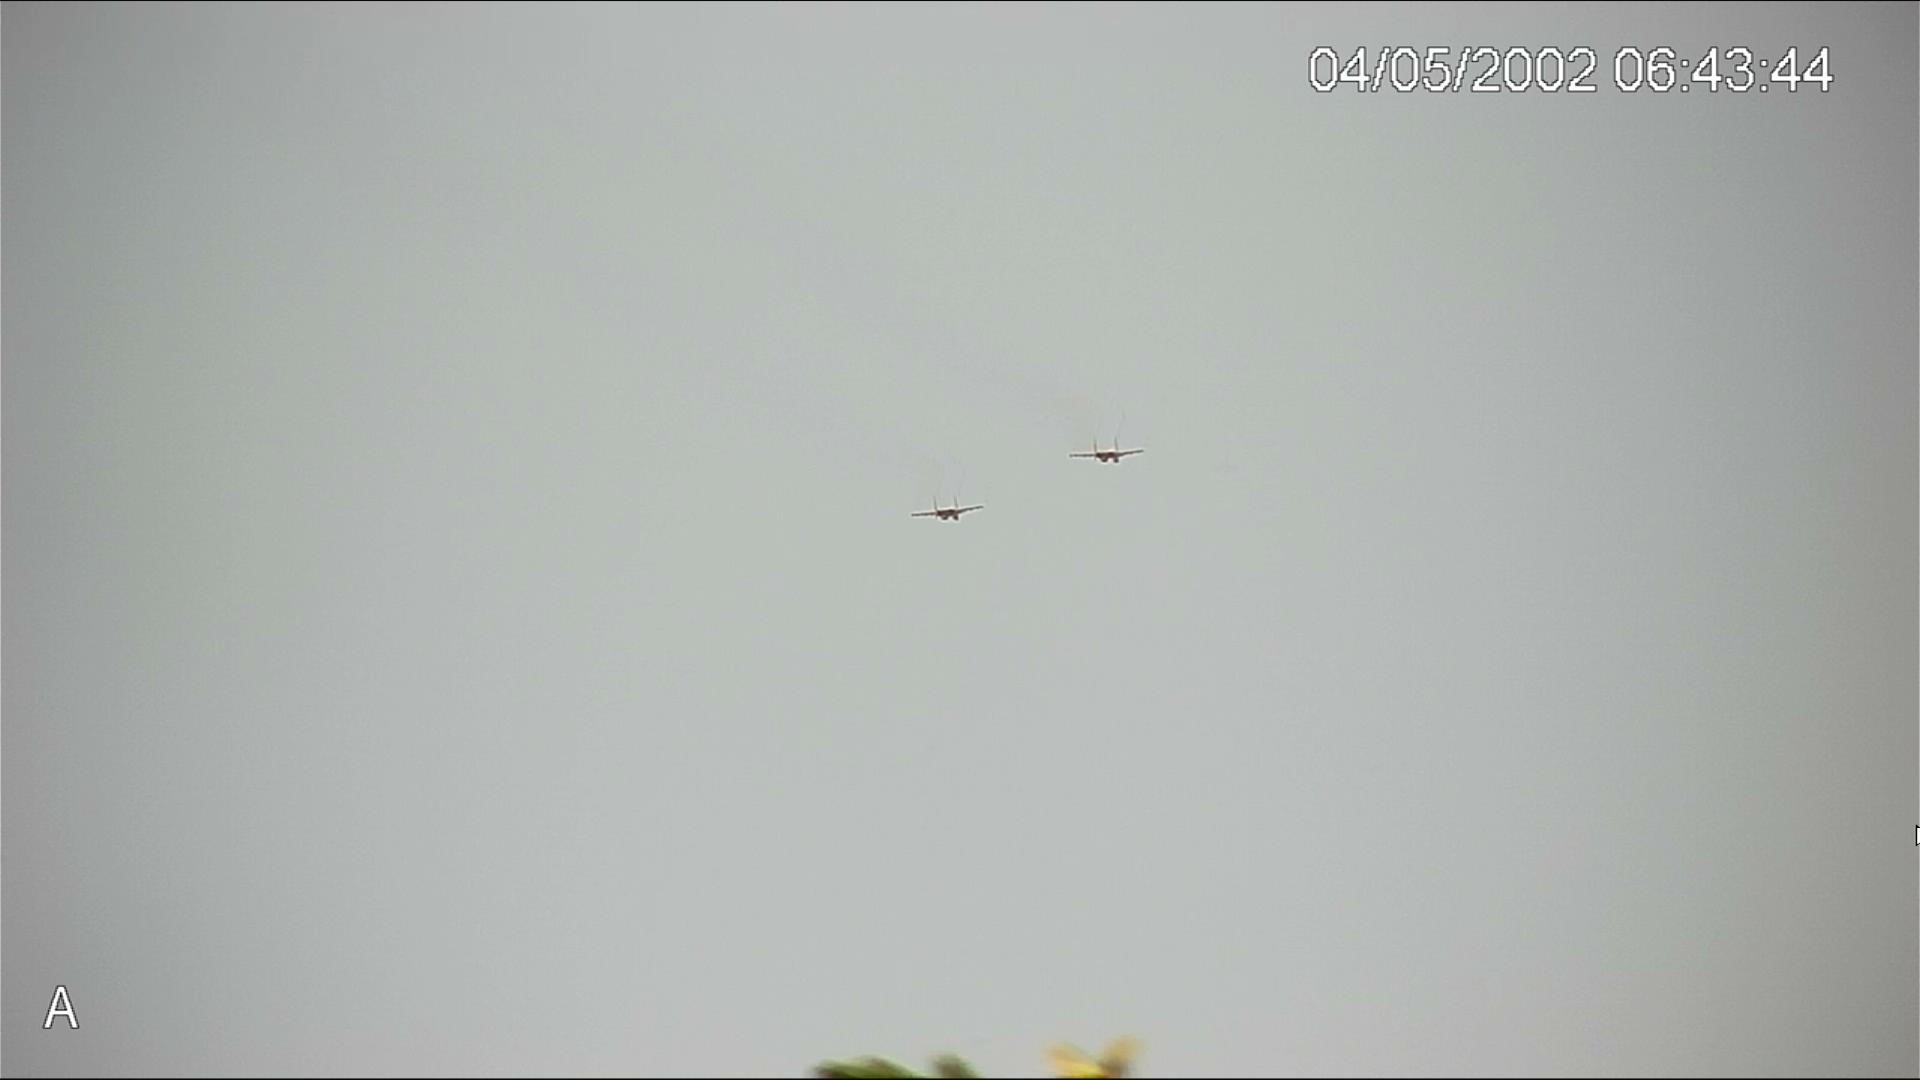SU_30: (1065, 436, 1150, 467), (913, 488, 990, 520)
